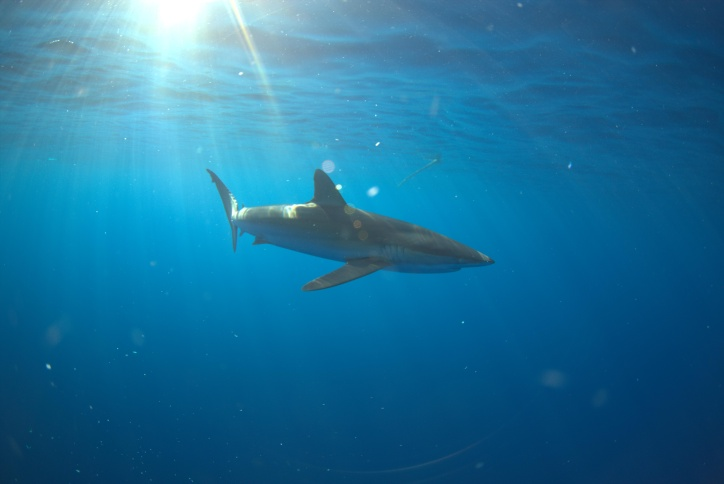Sedoso: (200, 152, 502, 314)
